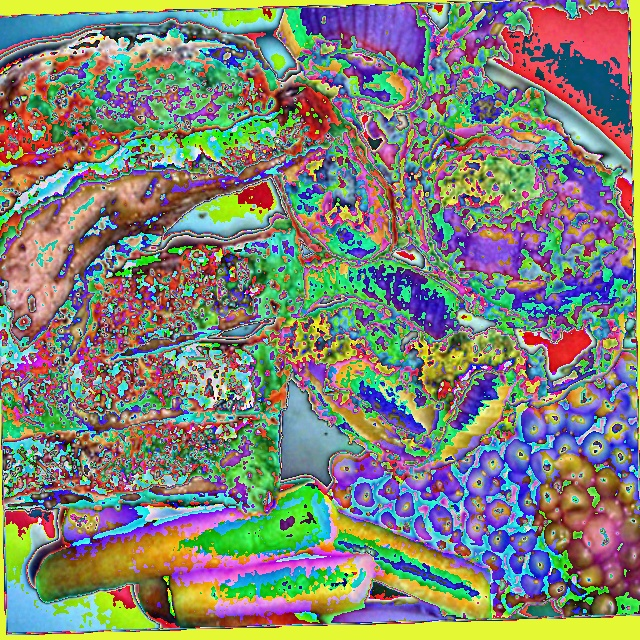background: (0, 0, 640, 630)
